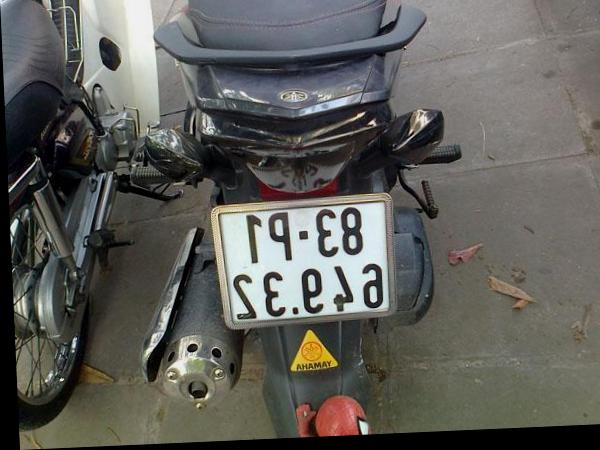License_Plate: (219, 195, 396, 332)
